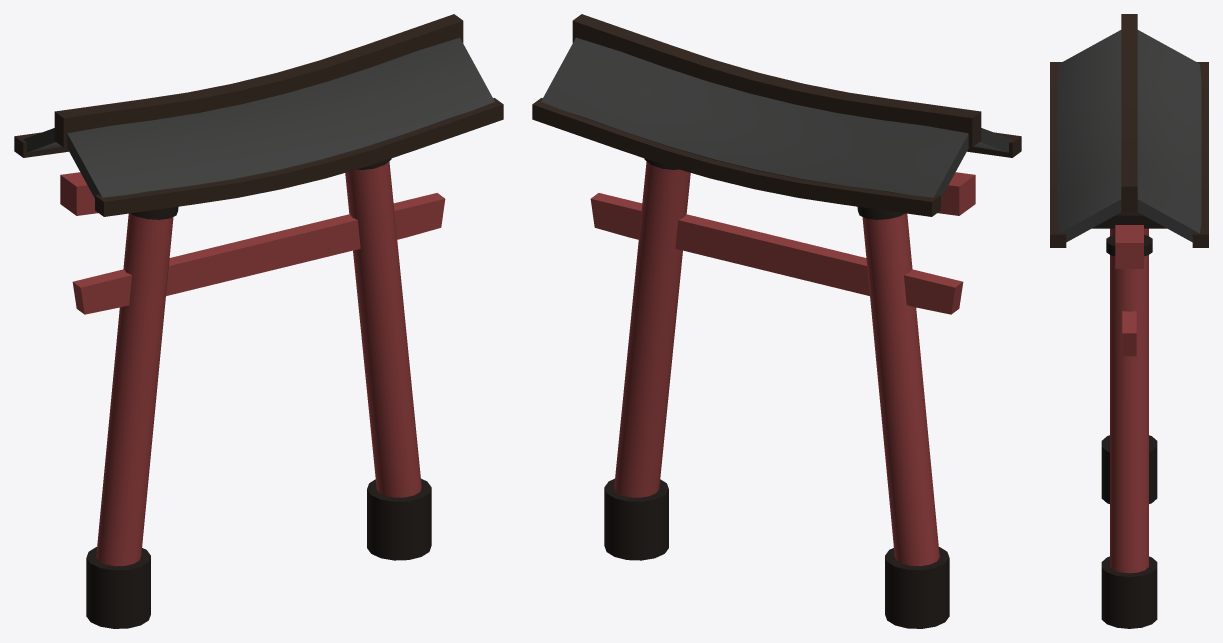
File: Japanese Gate.fbx
3 views of the same model, side by side, from view 1: azimuth 30°, elevation 25°; view 2: azimuth 150°, elevation 25°; view 3: azimuth 270°, elevation 25° (orthographic). The views are drawn at different scales.
Parts seen in each view (by area): view 1: Pillar3; view 2: Pillar3; view 3: Pillar3.
Boxes of the visible parts, bbox=[...] form: Pillar3: bbox=[14, 14, 503, 628]; Pillar3: bbox=[532, 14, 1021, 628]; Pillar3: bbox=[1050, 14, 1208, 628].
Bounding box in the file's own units: 14.25 × 17.55 × 5.54.
